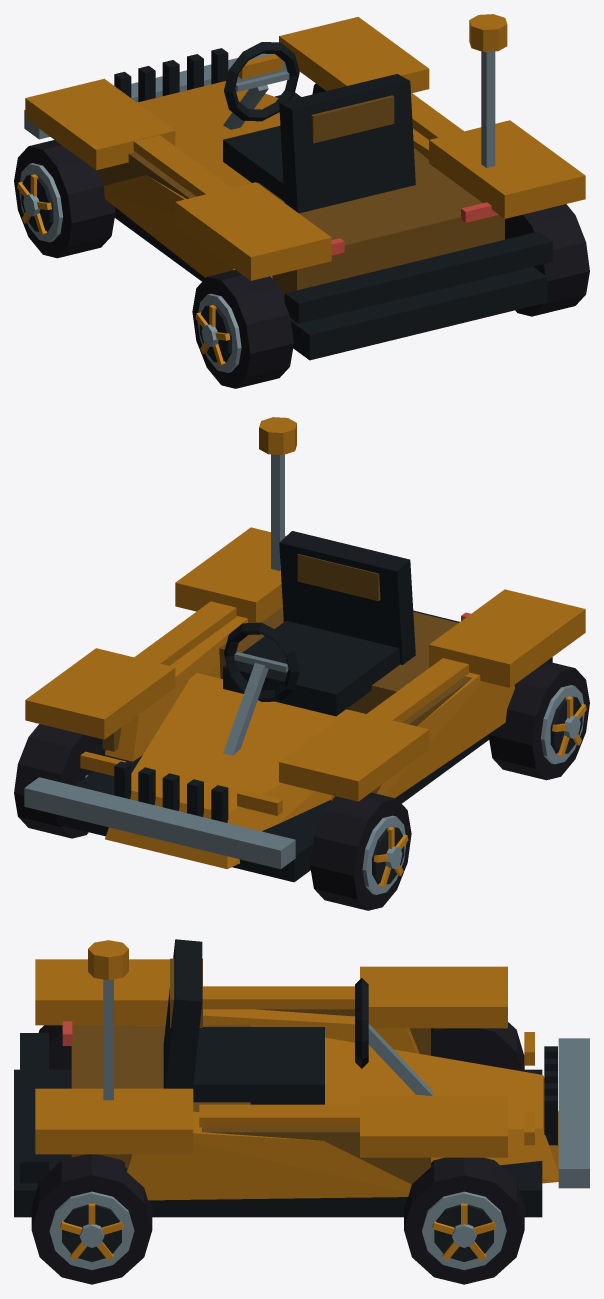
Rendered from kart.glb.
The picture shows the model from 3 angles, top to bottom: view 1: azimuth 30°, elevation 25°; view 2: azimuth 150°, elevation 25°; view 3: azimuth 270°, elevation 25°; orthographic projection. The views are drawn at different scales.
Visible parts, largest first — view 1: chassis, wheel-rear-left, wheel-front-left, wheel-rear-right; view 2: chassis, wheel-front-left, wheel-rear-left, wheel-front-right; view 3: chassis, wheel-rear-right, wheel-front-right, wheel-front-left, wheel-rear-left.
Part boxes in pixels (x1=…): chassis: x1=24, y1=14, x2=585, y2=360; wheel-rear-left: x1=192, y1=270, x2=293, y2=388; wheel-front-left: x1=14, y1=140, x2=115, y2=258; wheel-rear-right: x1=505, y1=204, x2=589, y2=316; chassis: x1=24, y1=417, x2=585, y2=882; wheel-front-left: x1=310, y1=792, x2=411, y2=910; wheel-rear-left: x1=488, y1=661, x2=589, y2=780; wheel-front-right: x1=14, y1=724, x2=113, y2=838; chassis: x1=14, y1=939, x2=589, y2=1217; wheel-rear-right: x1=31, y1=1154, x2=152, y2=1284; wheel-front-right: x1=404, y1=1157, x2=524, y2=1284; wheel-front-left: x1=431, y1=1022, x2=524, y2=1069; wheel-rear-left: x1=38, y1=1025, x2=71, y2=1069.
Bounding box in the file's own units: 2.27 × 1.72 × 2.96.
